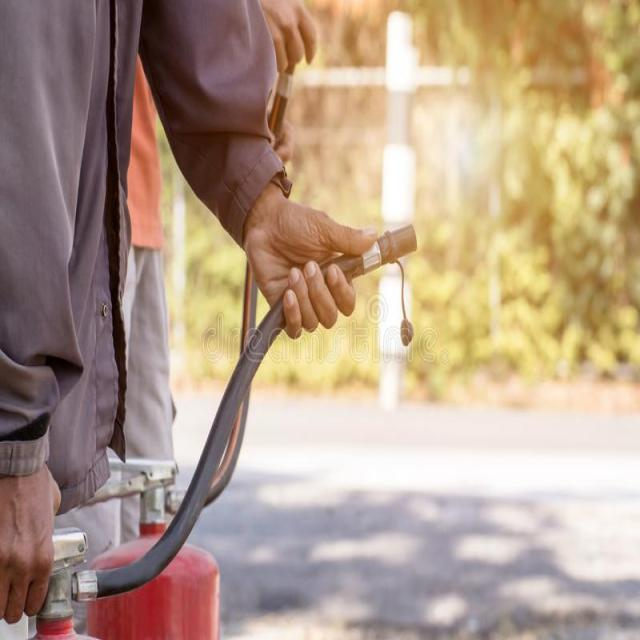fire_extinguisher: (0, 214, 426, 639), (68, 19, 309, 639)
